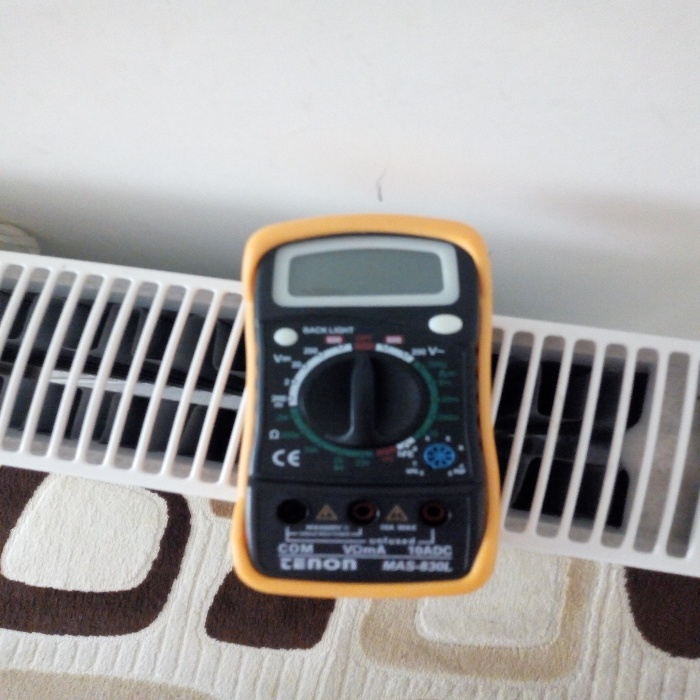multimetre: (213, 197, 547, 614)
